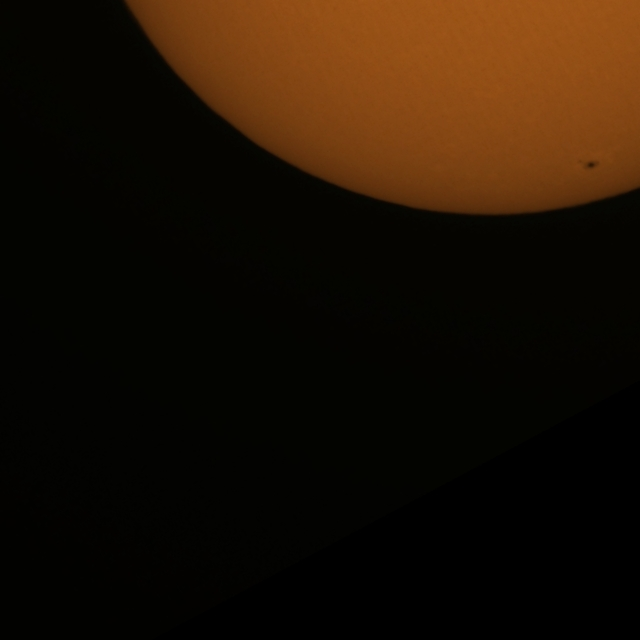sunspot: (577, 158, 601, 171)
